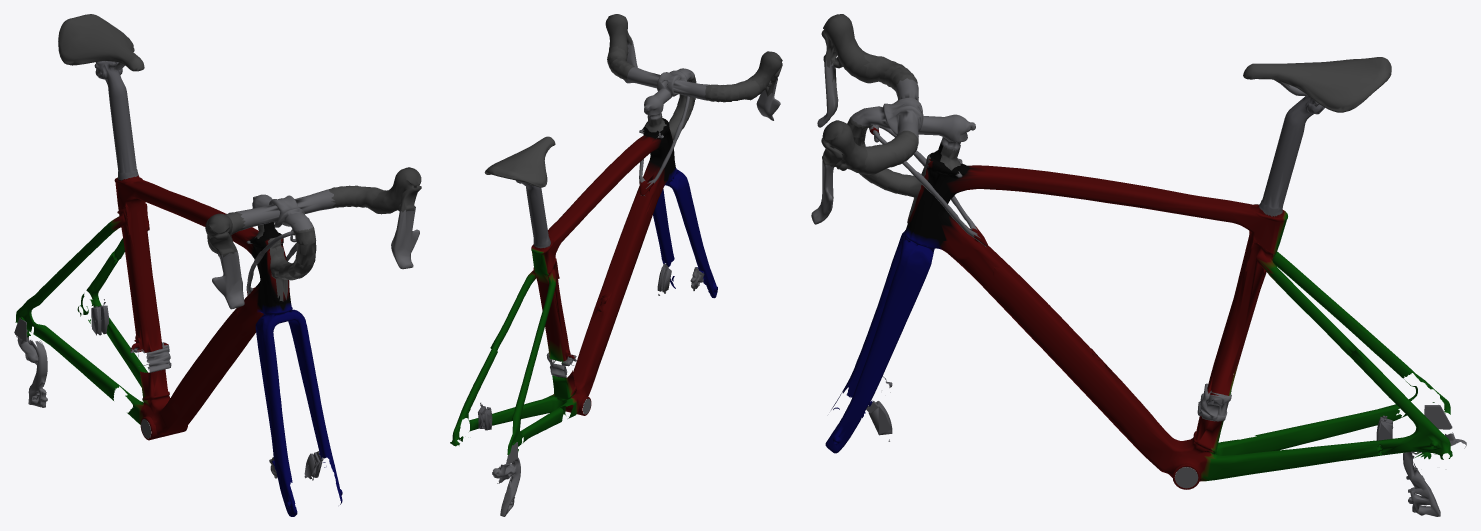
The model's file is roubaix54_lod1.glb.
3 renders of one model, left to right at view 1: azimuth 30°, elevation 25°; view 2: azimuth 150°, elevation 25°; view 3: azimuth 270°, elevation 25°, orthographic. The views are drawn at different scales.
Parts seen in each view (by area): view 1: frame, cockpit, fork, saddle, seatpost, etrier_arriere; view 2: frame, cockpit, fork, saddle, seatpost; view 3: frame, cockpit, fork, saddle, seatpost.
Part boxes in pixels (<box>): frame: <box>14,175,316,440</box>; cockpit: <box>205,167,421,309</box>; fork: <box>236,301,342,516</box>; saddle: <box>58,14,144,135</box>; seatpost: <box>113,132,138,180</box>; etrier_arriere: <box>91,299,108,335</box>; frame: <box>450,74,696,516</box>; cockpit: <box>605,14,782,120</box>; fork: <box>632,165,717,298</box>; saddle: <box>484,136,555,216</box>; seatpost: <box>530,213,550,248</box>; frame: <box>847,117,1466,516</box>; cockpit: <box>811,14,975,224</box>; fork: <box>825,225,998,453</box>; saddle: <box>1243,57,1391,166</box>; seatpost: <box>1259,161,1294,216</box>.
Size of the model in its own units: 0.4748 by 0.853 by 1.09.
